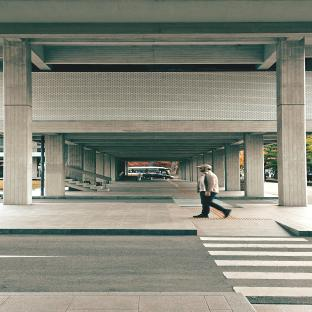Human: (193, 165, 231, 217)
